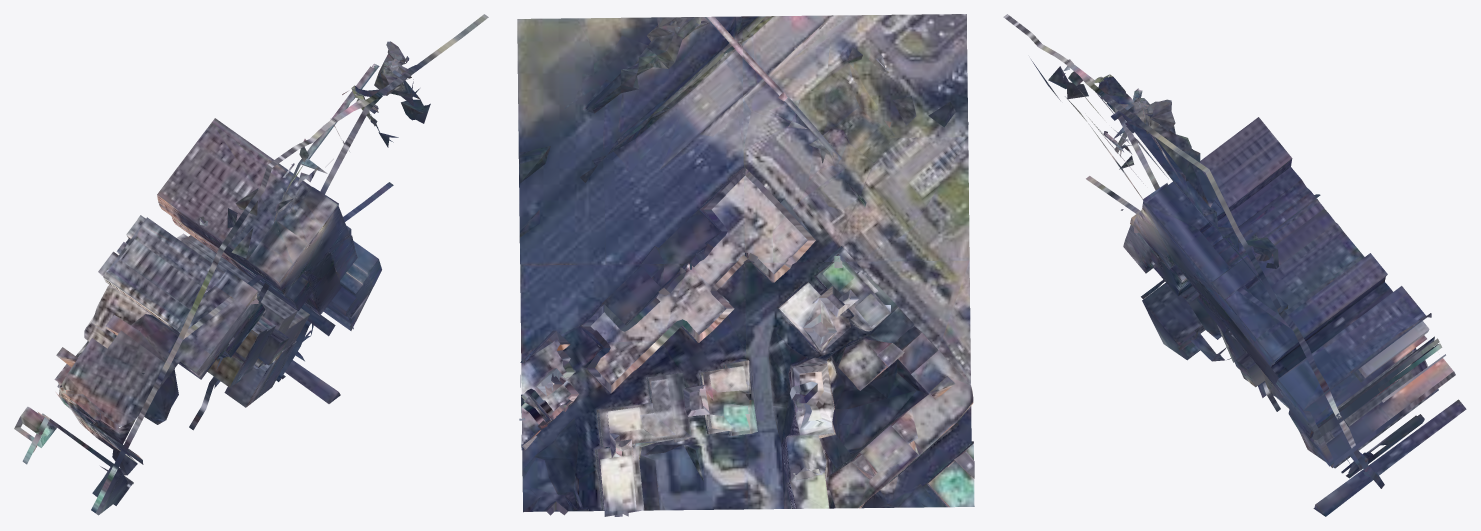
The picture shows the model from 3 angles, left to right: view 1: azimuth 30°, elevation 25°; view 2: azimuth 150°, elevation 25°; view 3: azimuth 270°, elevation 25°; orthographic projection. The views are drawn at different scales.
Size of the model in its own units: 170 by 150 by 158.
Materials: 2 (2 with a texture image).
